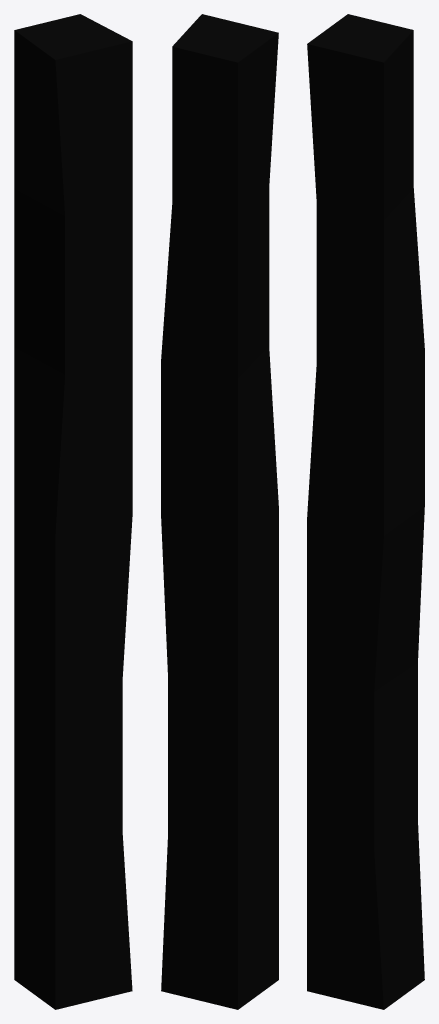
Rendered from WoodenPillar_2.fbx.
The picture shows the model from 3 angles, left to right: view 1: azimuth 30°, elevation 25°; view 2: azimuth 150°, elevation 25°; view 3: azimuth 330°, elevation 25°; orthographic projection.
Parts seen in each view (by area): view 1: Cube; view 2: Cube; view 3: Cube.
Part boxes in pixels (x1,y1,x2,y2): Cube: (14,14,132,1009); Cube: (161,14,278,1009); Cube: (307,14,424,1009).
Bounding box in the file's own units: 55.12 × 649 × 50.74.
